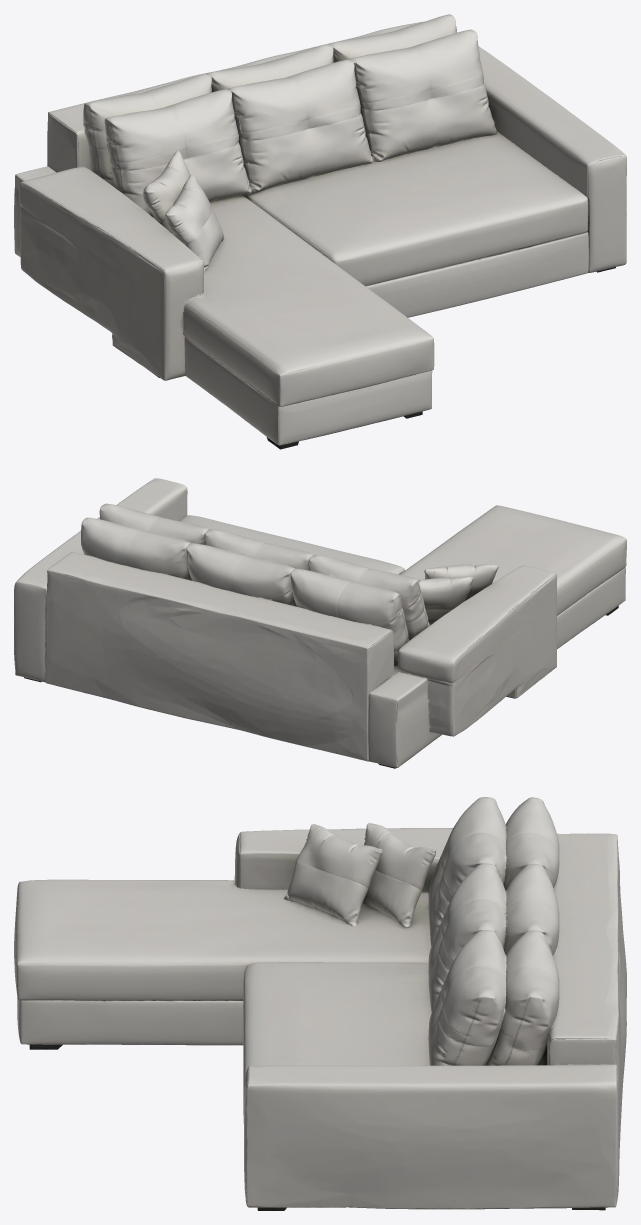
The model's file is Oskar.glb.
3 views of the same model, one above another, from view 1: azimuth 30°, elevation 25°; view 2: azimuth 150°, elevation 25°; view 3: azimuth 270°, elevation 25° (orthographic). The views are drawn at different scales.
Visible parts, largest first — view 1: tripo_node_a92de7f2-2402-4185-a478-c7fa4d40e155; view 2: tripo_node_a92de7f2-2402-4185-a478-c7fa4d40e155; view 3: tripo_node_a92de7f2-2402-4185-a478-c7fa4d40e155.
Boxes of the visible parts, x1,y1,x2,y2 form: tripo_node_a92de7f2-2402-4185-a478-c7fa4d40e155: (14, 14, 626, 449); tripo_node_a92de7f2-2402-4185-a478-c7fa4d40e155: (14, 478, 626, 768); tripo_node_a92de7f2-2402-4185-a478-c7fa4d40e155: (14, 797, 626, 1210).
Size of the model in its own units: 0.9808 by 0.3365 by 0.9612.
1 material, 1 textured.
